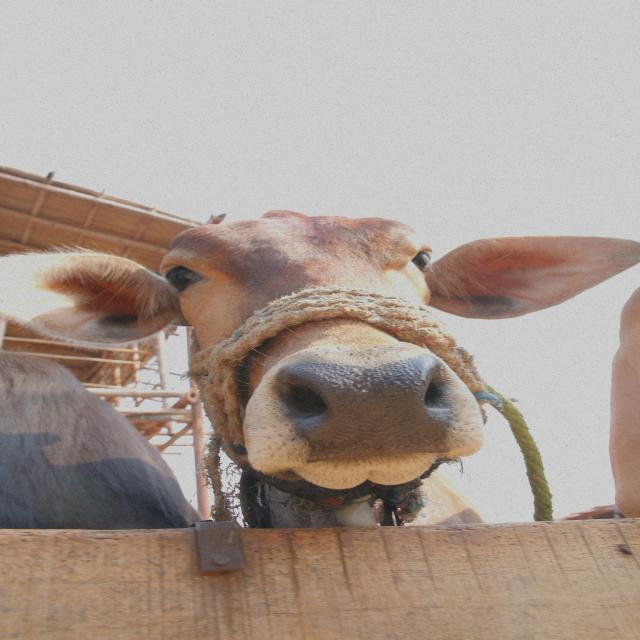muzzles: (260, 352, 475, 463)
